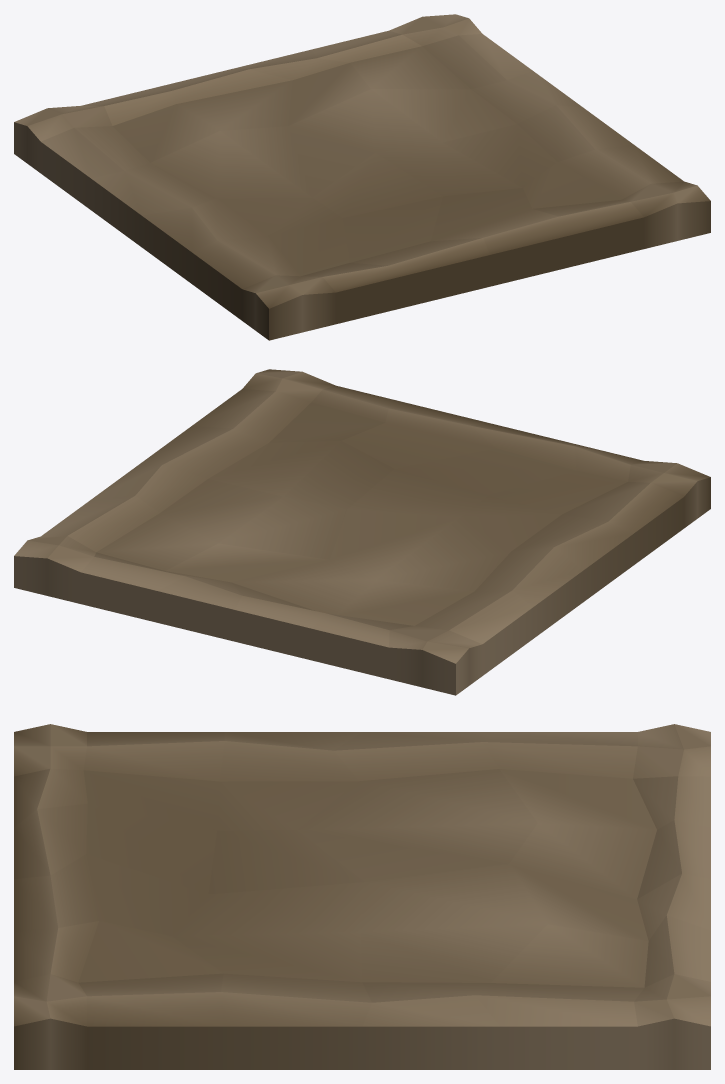
File: Farmland_Soil_4X4.fbx
The picture shows the model from 3 angles, top to bottom: view 1: azimuth 30°, elevation 25°; view 2: azimuth 150°, elevation 25°; view 3: azimuth 270°, elevation 25°; orthographic projection. The views are drawn at different scales.
Parts seen in each view (by area): view 1: Farmland_Soil_4X4; view 2: Farmland_Soil_4X4; view 3: Farmland_Soil_4X4.
Boxes of the visible parts, bbox=[...] form: Farmland_Soil_4X4: bbox=[14, 14, 710, 340]; Farmland_Soil_4X4: bbox=[14, 369, 710, 695]; Farmland_Soil_4X4: bbox=[14, 724, 710, 1069].
Size of the model in its own units: 4 by 0.325 by 4.
1 material, 1 textured.
